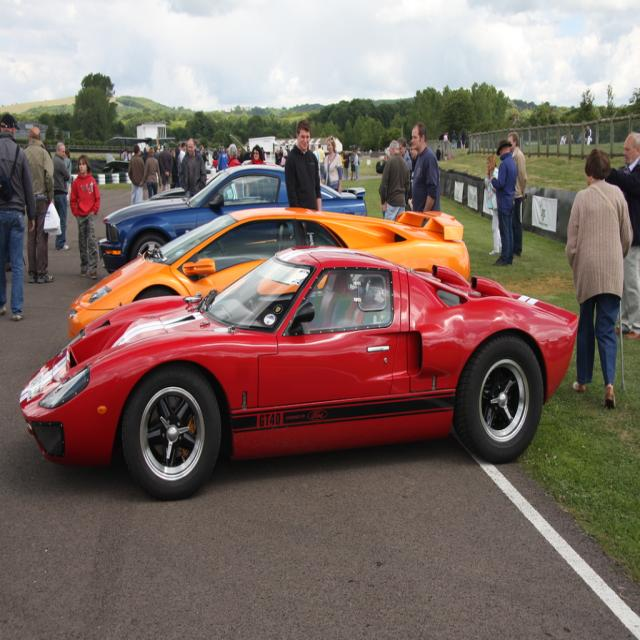car: (18, 243, 577, 496)
